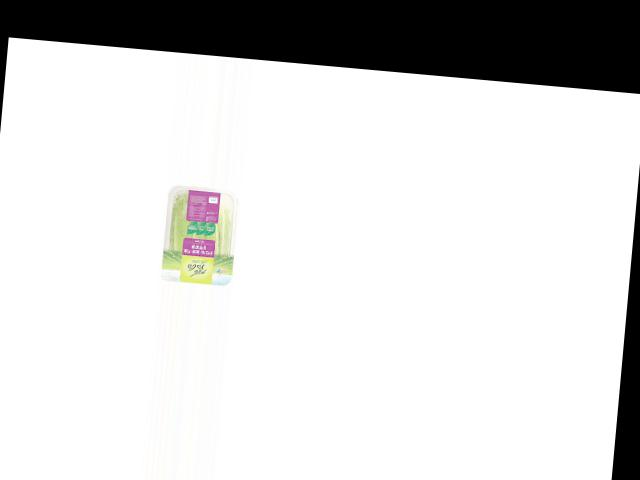lettuce: (161, 183, 241, 279)
